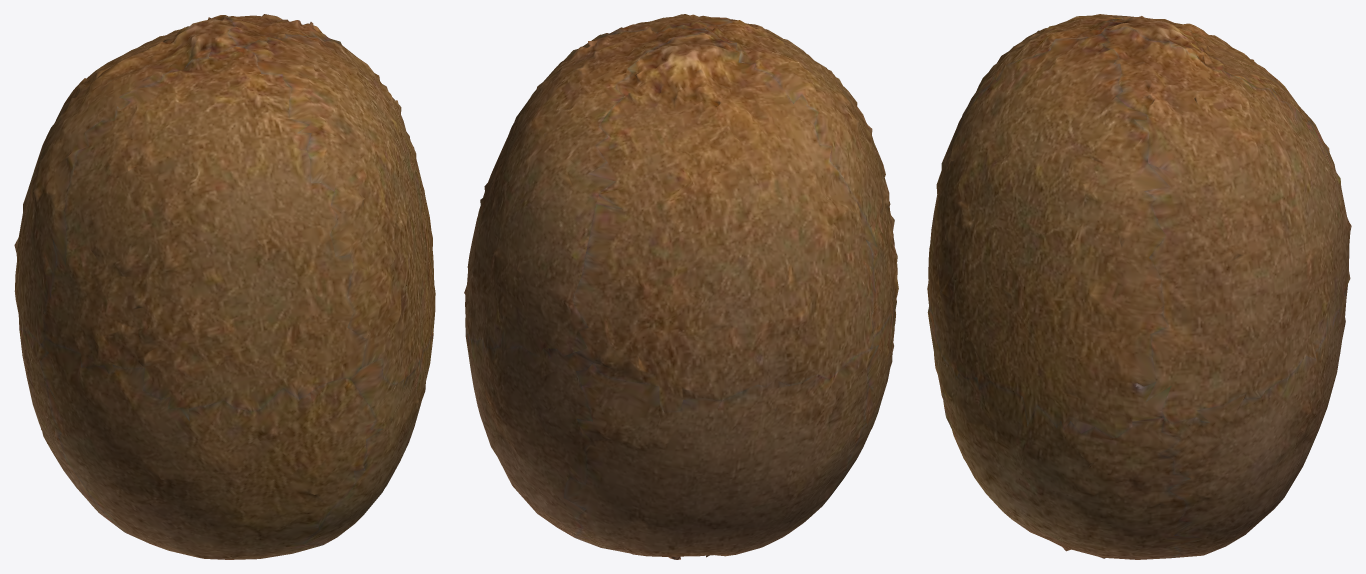
File: PH-food_kiwi_01.glb
3 views of the same model, side by side, from view 1: azimuth 30°, elevation 25°; view 2: azimuth 150°, elevation 25°; view 3: azimuth 270°, elevation 25° (orthographic).
Visible parts, largest first — view 1: food_kiwi_01; view 2: food_kiwi_01; view 3: food_kiwi_01.
Boxes of the visible parts, bbox=[...] form: food_kiwi_01: bbox=[14, 14, 435, 559]; food_kiwi_01: bbox=[464, 14, 898, 559]; food_kiwi_01: bbox=[927, 14, 1351, 559].
Bounding box in the file's own units: 0.0695 × 0.0901 × 0.0686.
1 material, 1 textured.
